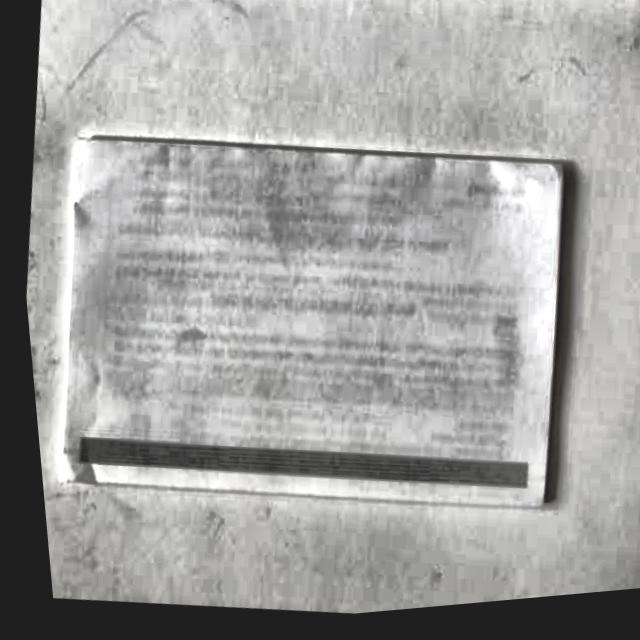Paper: (13, 93, 592, 563)
